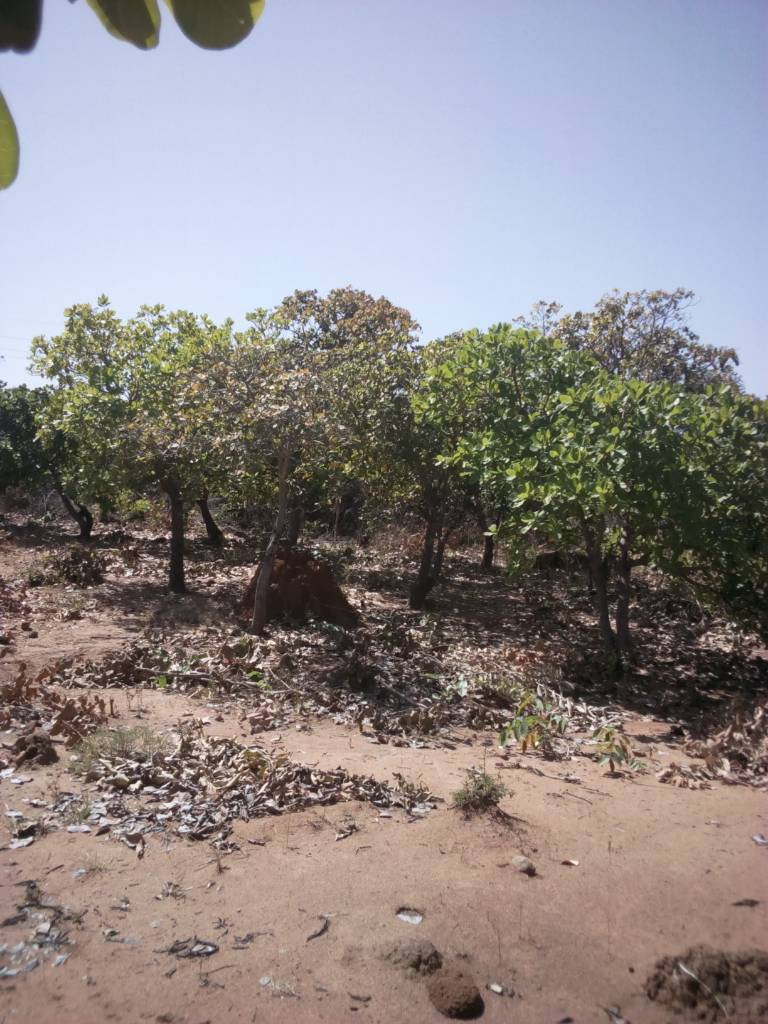Termites: (279, 550, 341, 616)
